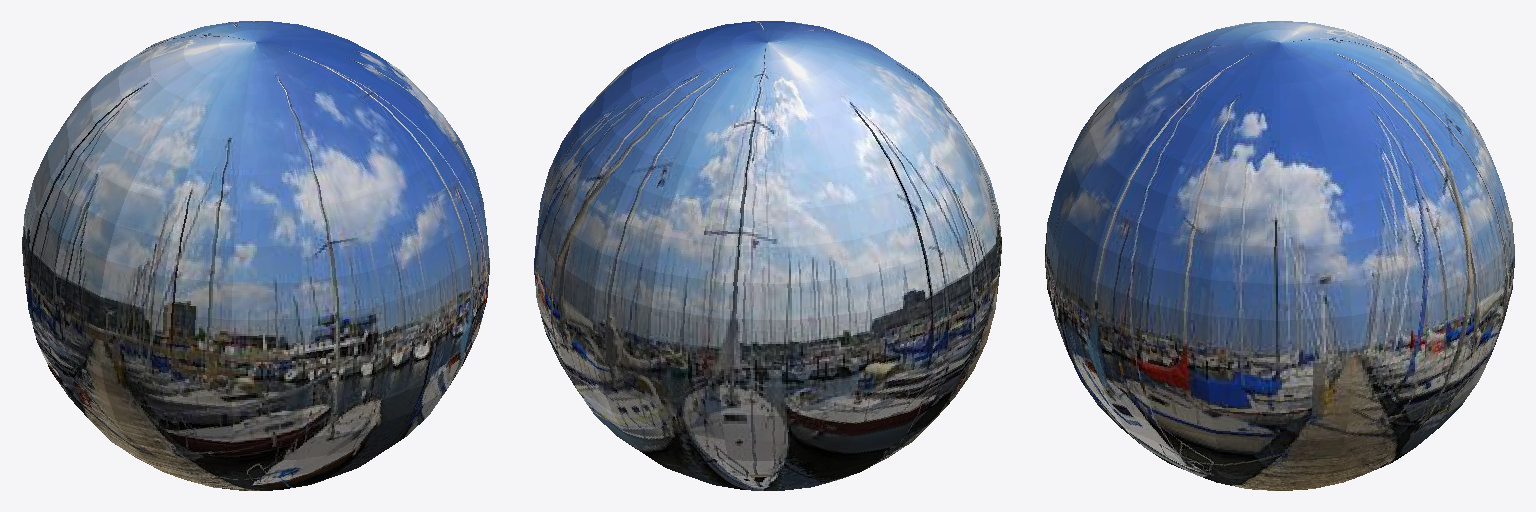
3 views of the same model, side by side, from view 1: azimuth 30°, elevation 25°; view 2: azimuth 150°, elevation 25°; view 3: azimuth 270°, elevation 25° (orthographic).
Visible parts, largest first — view 1: pSphere1; view 2: pSphere1; view 3: pSphere1.
Part boxes in pixels (bbox=[...]): pSphere1: bbox=[22, 21, 489, 490]; pSphere1: bbox=[534, 21, 1001, 490]; pSphere1: bbox=[1045, 21, 1514, 490].
Size of the model in its own units: 9.49 by 9.49 by 9.49.
Materials: 1 (1 with a texture image).